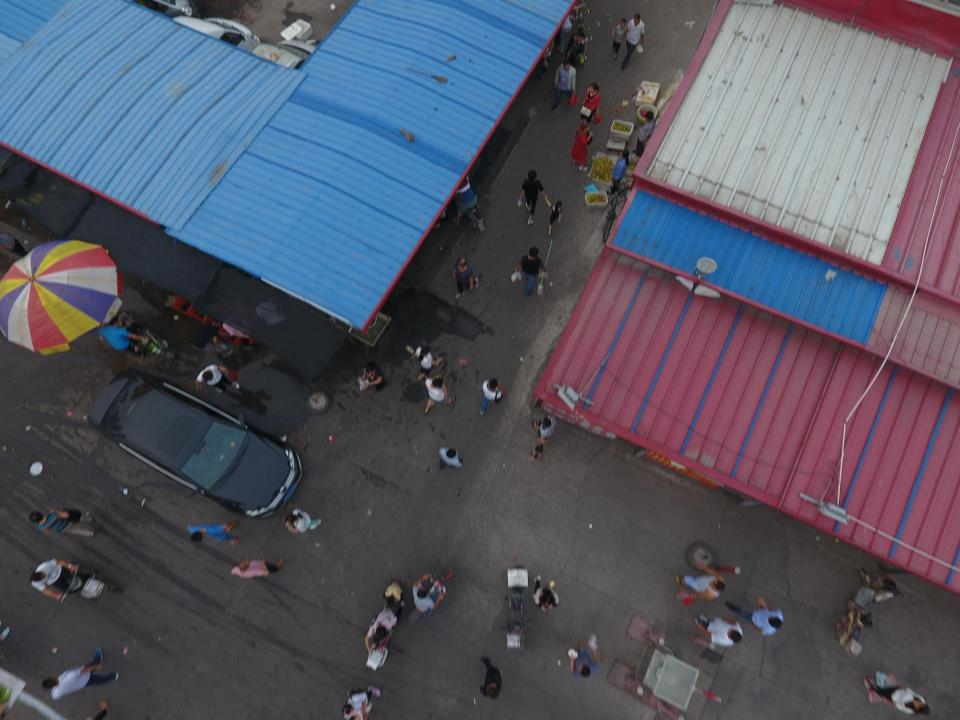car: (89, 367, 302, 518)
van: (84, 18, 260, 117), (194, 40, 310, 147)
